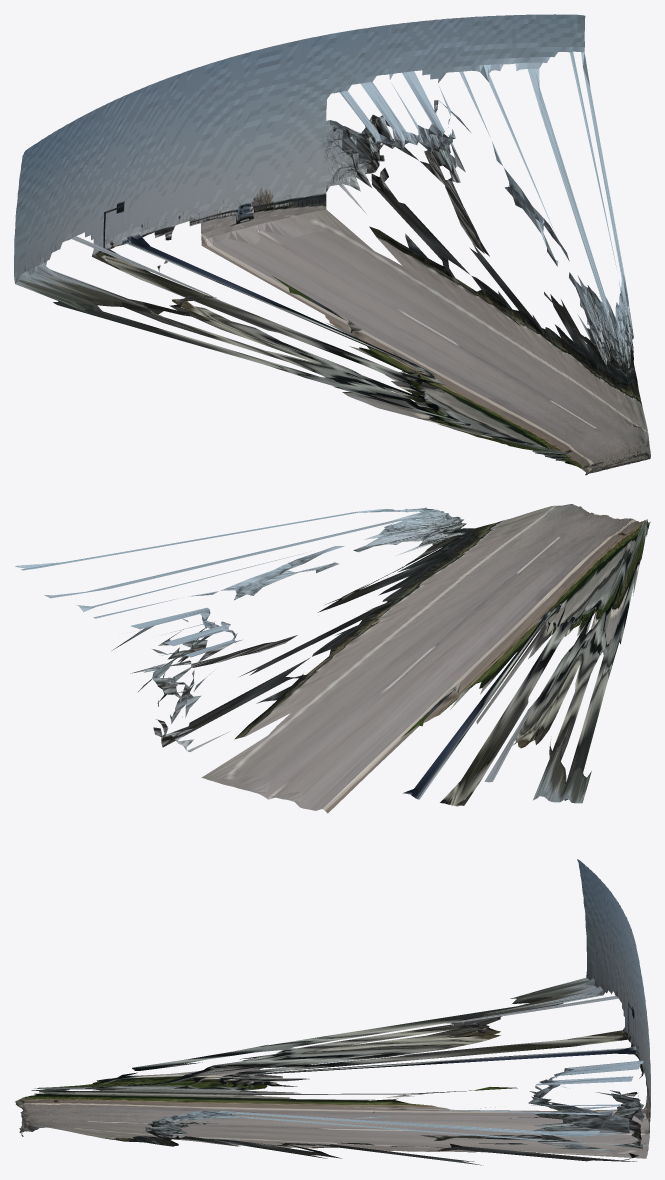
3 renders of one model, top to bottom at view 1: azimuth 30°, elevation 25°; view 2: azimuth 150°, elevation 25°; view 3: azimuth 270°, elevation 25°, orthographic. The views are drawn at different scales.
Parts seen in each view (by area): view 1: defaultobject; view 2: defaultobject; view 3: defaultobject.
Boxes of the visible parts, x1=… form: defaultobject: x1=14, y1=14, x2=650, y2=475; defaultobject: x1=15, y1=504, x2=650, y2=813; defaultobject: x1=15, y1=859, x2=650, y2=1165.
Size of the model in its own units: 41 by 13.53 by 44.58.
Materials: 1 (1 with a texture image).
